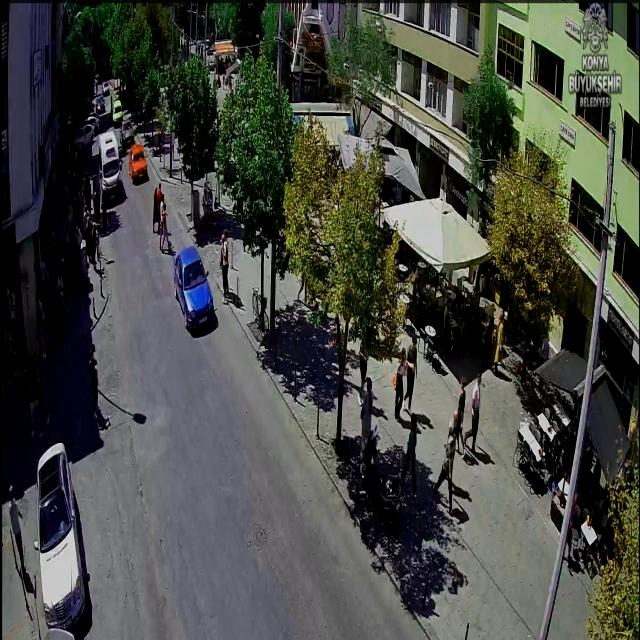Car: (34, 442, 86, 630), (173, 245, 216, 332), (129, 144, 148, 180), (73, 124, 94, 150), (120, 120, 135, 146), (82, 116, 100, 131), (95, 96, 106, 114), (101, 82, 110, 96)
Van: (98, 130, 123, 202)
